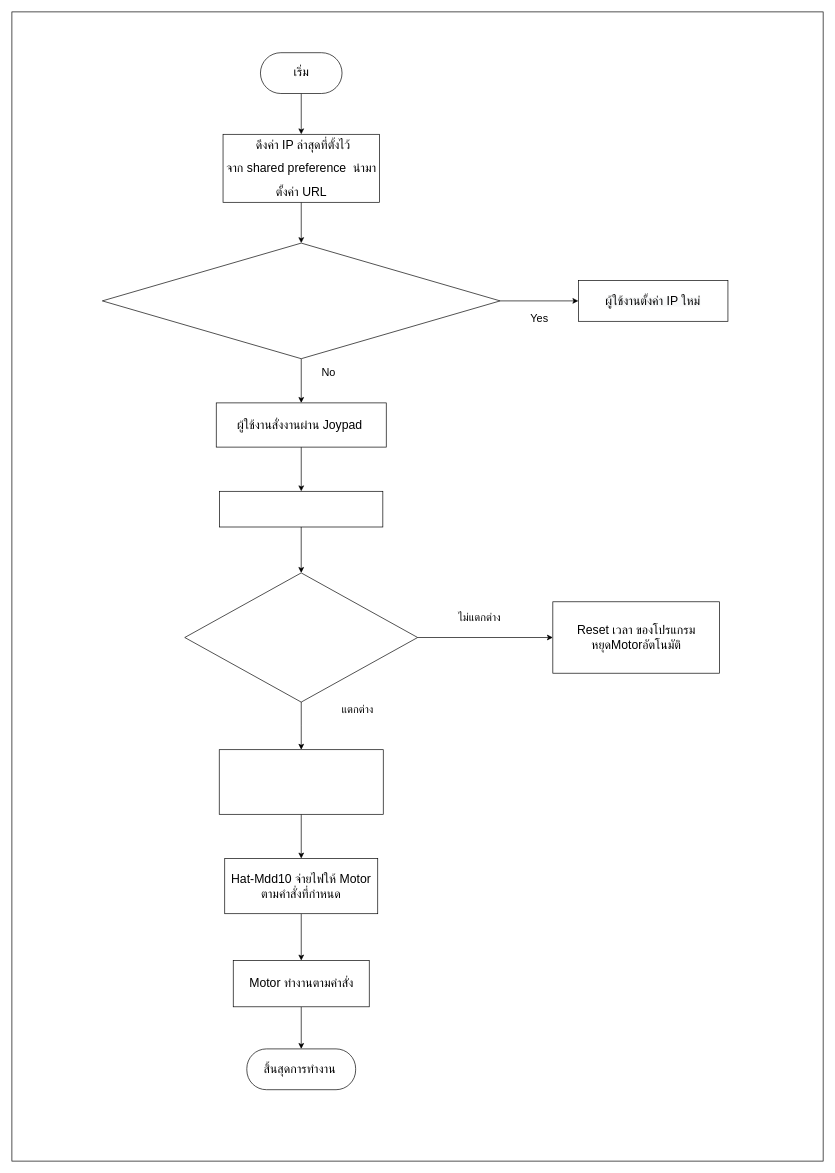
Image size: 835x1173. Some labels were removed from this diagram. Each missing label, with the centre of its shape:
"Server ตรวจสอบคำสั่งล่าสุด ว่าแตกต่างกับคำสั่งที่แล้วหรือไม่" goes at point (301, 637).
"ตรวจว่า ip ที่ตั้งไว้ ตรงกับ IP ของ boardRaspberyPi หรือไม่" goes at point (301, 300).
"ส่งสัญญาณไปยัง Hat-Mdd10 ตามคำสั่งที่กำหนด" goes at point (301, 781).
"แอพพลิเคชัน ส่งคำสั่งไปยัง Server" goes at point (301, 509).
